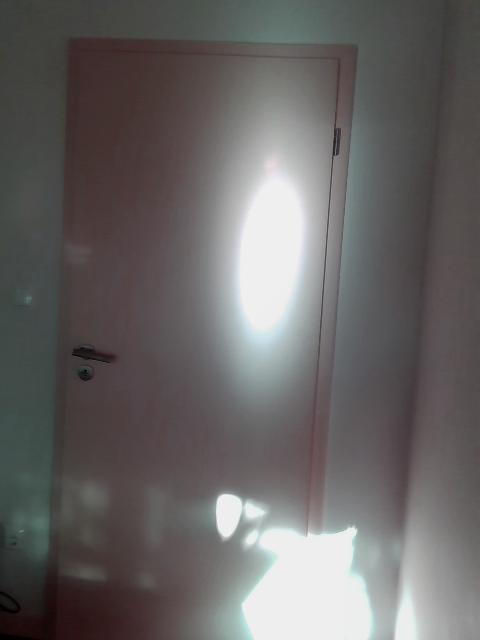closed_door: (44, 35, 359, 639)
